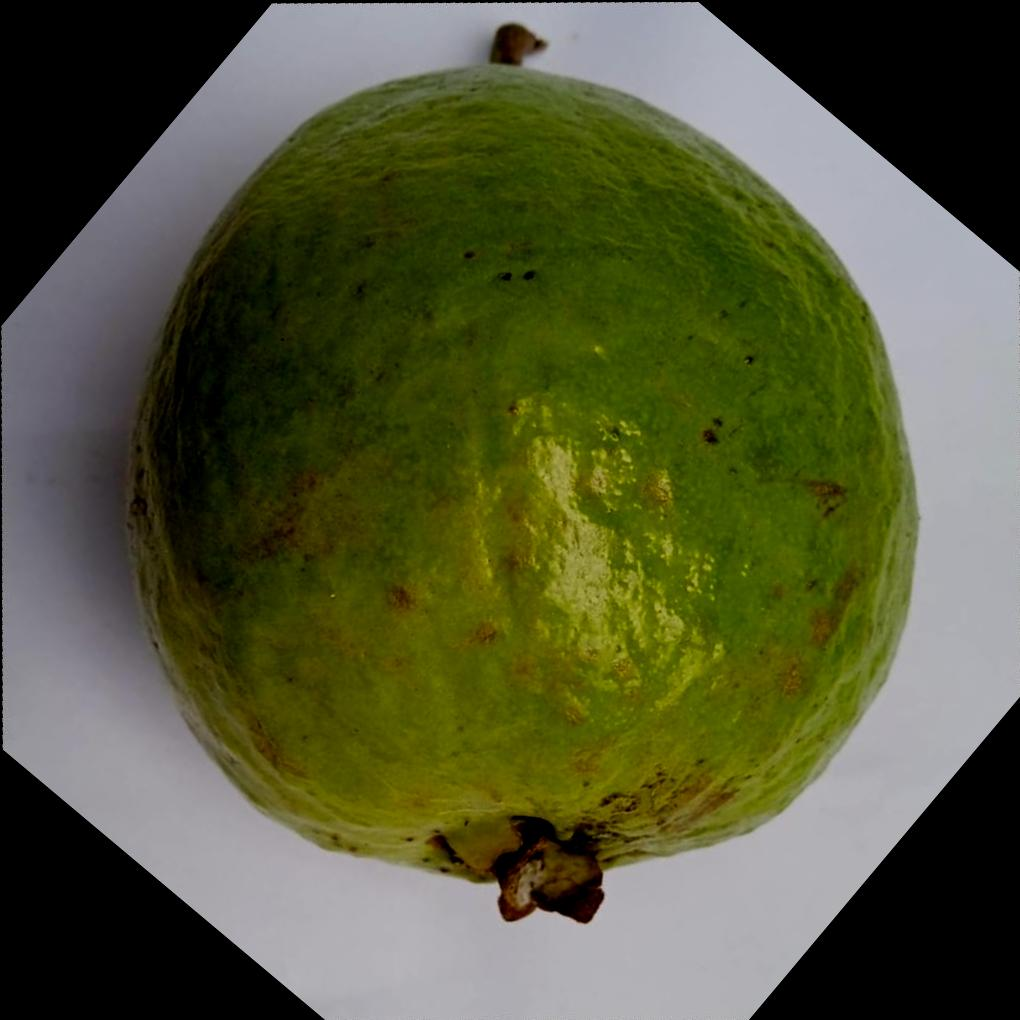FreshGuava: (118, 55, 918, 922)
